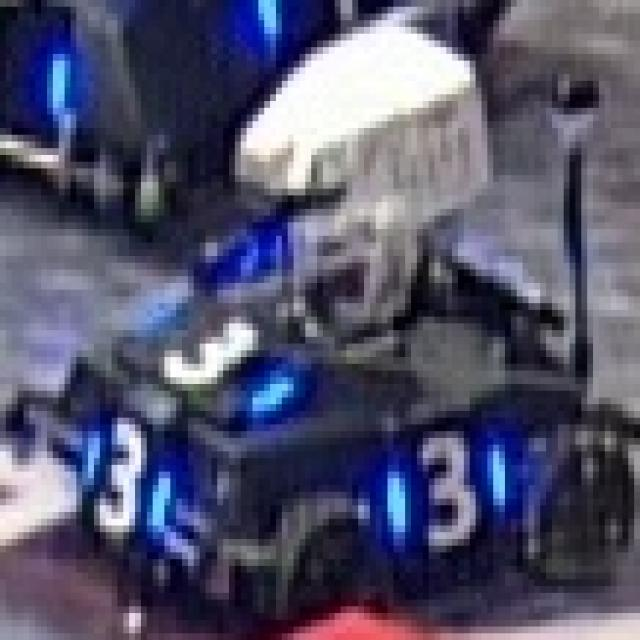B3: (382, 424, 511, 546), (76, 411, 176, 532)
